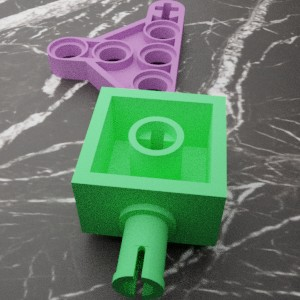lego: (71, 86, 226, 300), (46, 0, 184, 152)
